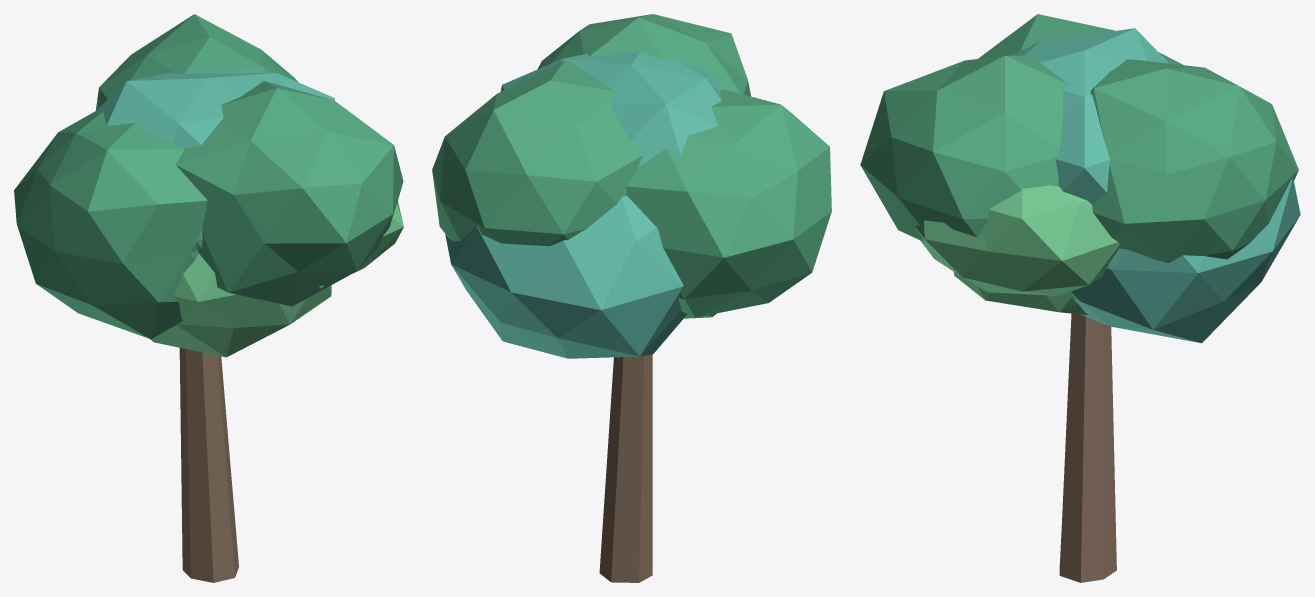
The model's file is Tree_Large_B.glb.
The picture shows the model from 3 angles, left to right: view 1: azimuth 30°, elevation 25°; view 2: azimuth 150°, elevation 25°; view 3: azimuth 270°, elevation 25°; orthographic projection. The views are drawn at different scales.
Parts seen in each view (by area): view 1: Tree_Large_B; view 2: Tree_Large_B; view 3: Tree_Large_B.
Boxes of the visible parts, left/top/right/bottom form: Tree_Large_B: left=14, top=14, right=403, bottom=582; Tree_Large_B: left=432, top=14, right=831, bottom=582; Tree_Large_B: left=860, top=14, right=1300, bottom=582.
Bounding box in the file's own units: 7.03 × 10.08 × 7.61.
